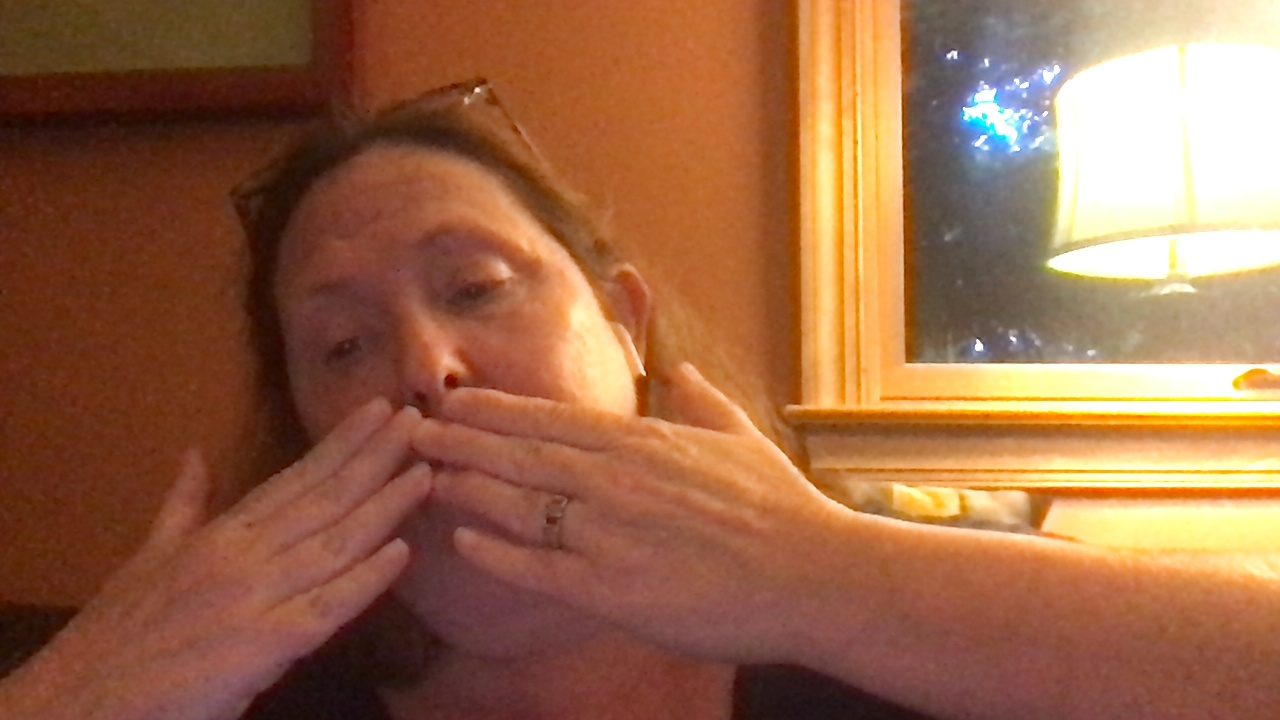thankyou: (87, 358, 825, 720)
